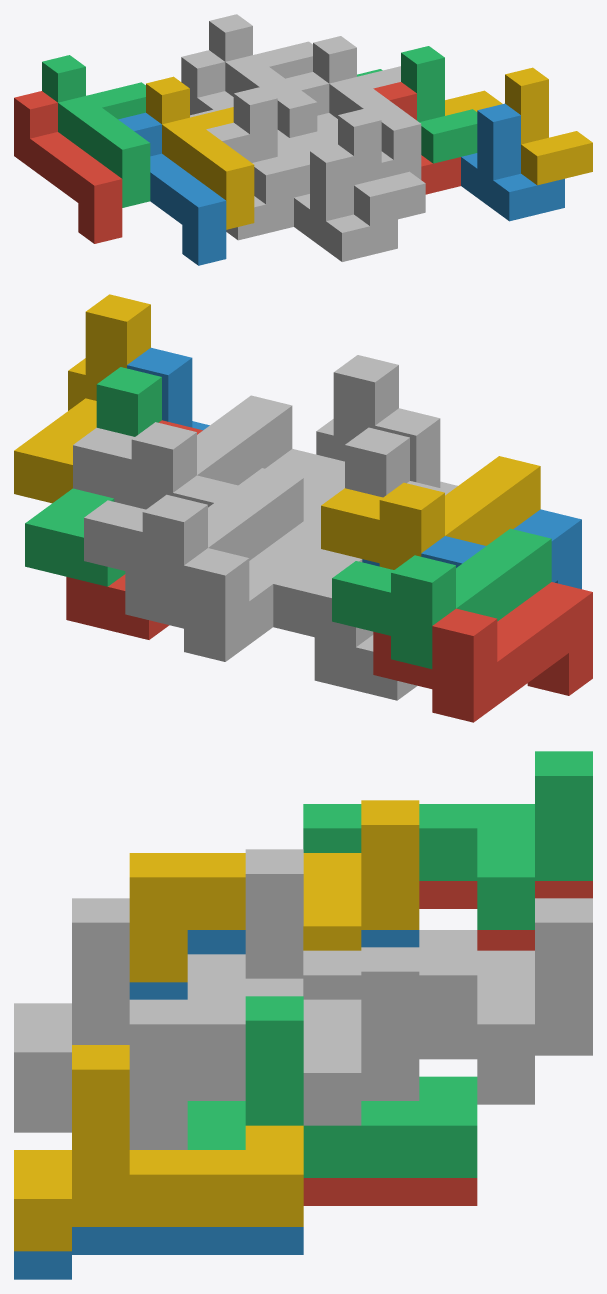
Rendered from tiling.obj.
3 views of the same model, one above another, from view 1: azimuth 30°, elevation 25°; view 2: azimuth 150°, elevation 25°; view 3: azimuth 270°, elevation 25° (orthographic). The views are drawn at different scales.
Parts seen in each view (by area): view 1: copy_1_domain_3, copy_1_domain_1, copy_1_domain_4, copy_1_domain_7, copy_2_domain_2, copy_2_domain_6, copy_2_domain_4, copy_2_domain_8, copy_1_domain_8, copy_1_domain_2, copy_2_domain_7, copy_2_domain_3 (+4 smaller); view 2: copy_1_domain_1, copy_1_domain_3, copy_1_domain_7, copy_1_domain_8, copy_1_domain_4, copy_1_domain_5, copy_2_domain_8, copy_2_domain_7, copy_2_domain_3, copy_2_domain_4, copy_1_domain_2, copy_2_domain_1 (+4 smaller); view 3: copy_2_domain_8, copy_1_domain_8, copy_1_domain_4, copy_2_domain_7, copy_1_domain_7, copy_1_domain_3, copy_2_domain_4, copy_2_domain_3, copy_2_domain_6, copy_1_domain_5, copy_2_domain_5, copy_1_domain_6 (+3 smaller).
Boxes of the visible parts, x1,y1,x2,y2 form: copy_1_domain_3: (42, 55, 150, 207); copy_1_domain_1: (14, 91, 122, 243); copy_1_domain_4: (146, 76, 254, 229); copy_1_domain_7: (209, 14, 317, 137); copy_2_domain_2: (294, 144, 397, 261); copy_2_domain_6: (461, 103, 564, 221); copy_2_domain_4: (277, 108, 425, 225); copy_2_domain_8: (445, 67, 592, 185); copy_1_domain_8: (313, 36, 421, 179); copy_1_domain_2: (118, 112, 226, 265); copy_2_domain_7: (357, 46, 477, 163); copy_2_domain_3: (190, 86, 309, 204); copy_1_domain_1: (373, 582, 592, 722); copy_1_domain_3: (332, 528, 551, 668); copy_1_domain_7: (84, 468, 303, 608); copy_1_domain_8: (73, 395, 292, 509); copy_1_domain_4: (321, 456, 540, 569); copy_1_domain_5: (125, 521, 320, 661); copy_2_domain_8: (14, 294, 150, 503); copy_2_domain_7: (25, 367, 161, 586); copy_2_domain_3: (273, 427, 409, 647); copy_2_domain_4: (303, 355, 398, 525); copy_1_domain_2: (362, 509, 581, 589); copy_2_domain_1: (314, 481, 450, 700); copy_2_domain_8: (14, 1045, 303, 1251); copy_1_domain_8: (129, 947, 419, 1128); copy_1_domain_4: (129, 800, 419, 982); copy_2_domain_7: (187, 996, 477, 1177); copy_1_domain_7: (303, 898, 592, 1076); copy_1_domain_3: (303, 751, 592, 929); copy_2_domain_4: (14, 898, 303, 1104); copy_2_domain_3: (187, 849, 477, 999); copy_2_domain_6: (14, 1227, 303, 1279); copy_1_domain_5: (419, 1027, 592, 1104); copy_2_domain_5: (303, 1178, 477, 1205); copy_1_domain_6: (129, 1076, 419, 1149).
Size of the model in its own units: 15 by 4 by 10.
